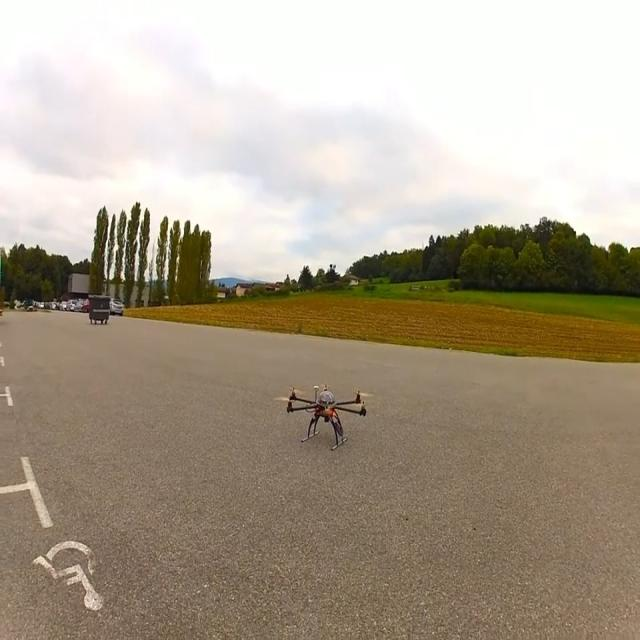drone: (284, 382, 367, 451)
